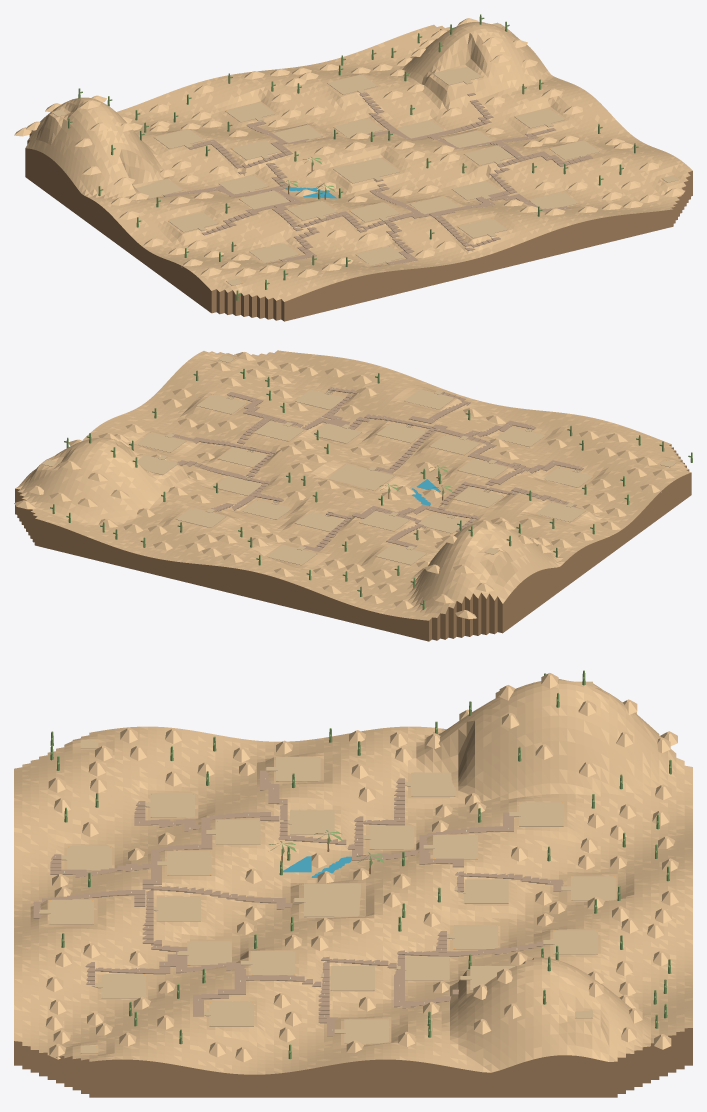
Rendered from ground.glb.
3 views of the same model, one above another, from view 1: azimuth 30°, elevation 25°; view 2: azimuth 150°, elevation 25°; view 3: azimuth 270°, elevation 25° (orthographic). The views are drawn at different scales.
Parts seen in each view (by area): view 1: planet_desert__Terrain, planet_desert__Roads, planet_desert__Decoration; view 2: planet_desert__Terrain, planet_desert__Roads, planet_desert__Decoration; view 3: planet_desert__Terrain, planet_desert__Roads, planet_desert__Decoration.
Part boxes in pixels (<box>): planet_desert__Terrain: <box>25,22,692,321</box>; planet_desert__Roads: <box>51,22,678,285</box>; planet_desert__Decoration: <box>14,14,684,300</box>; planet_desert__Terrain: <box>15,350,691,641</box>; planet_desert__Roads: <box>42,355,676,565</box>; planet_desert__Decoration: <box>14,352,692,619</box>; planet_desert__Terrain: <box>14,679,692,1097</box>; planet_desert__Roads: <box>33,681,615,1053</box>; planet_desert__Decoration: <box>45,670,678,1062</box>.
Size of the model in its own units: 188 by 32.36 by 162.
